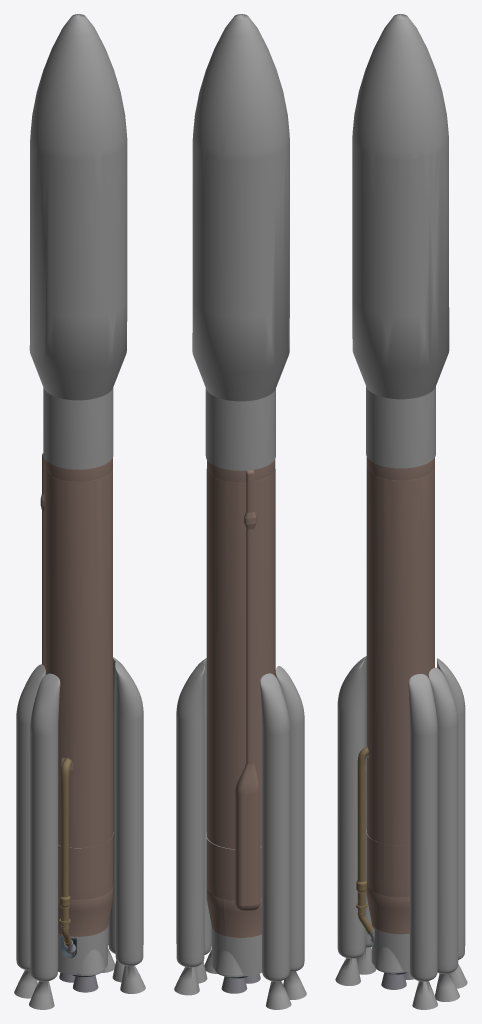
Rendered from atlas5.glb.
The picture shows the model from 3 angles, left to right: view 1: azimuth 30°, elevation 25°; view 2: azimuth 150°, elevation 25°; view 3: azimuth 330°, elevation 25°; orthographic projection.
Parts seen in each view (by area): view 1: fairing_m, ccb_m (×3), srb_m (×2); view 2: fairing_m, ccb_m (×3), srb_m; view 3: fairing_m, srb_m (×2), ccb_m (×3).
Part boxes in pixels (<box>): fairing_m: <box>29,14,127,469</box>; ccb_m (×3): <box>40,453,113,992</box>; srb_m (×2): <box>14,657,145,1009</box>; fairing_m: <box>192,14,289,470</box>; ccb_m (×3): <box>205,459,275,993</box>; srb_m: <box>174,658,306,1009</box>; fairing_m: <box>352,14,449,468</box>; srb_m (×2): <box>335,656,467,1009</box>; ccb_m (×3): <box>366,457,434,989</box>.
Bounding box in the file's own units: 7.32 × 59.95 × 5.45.
